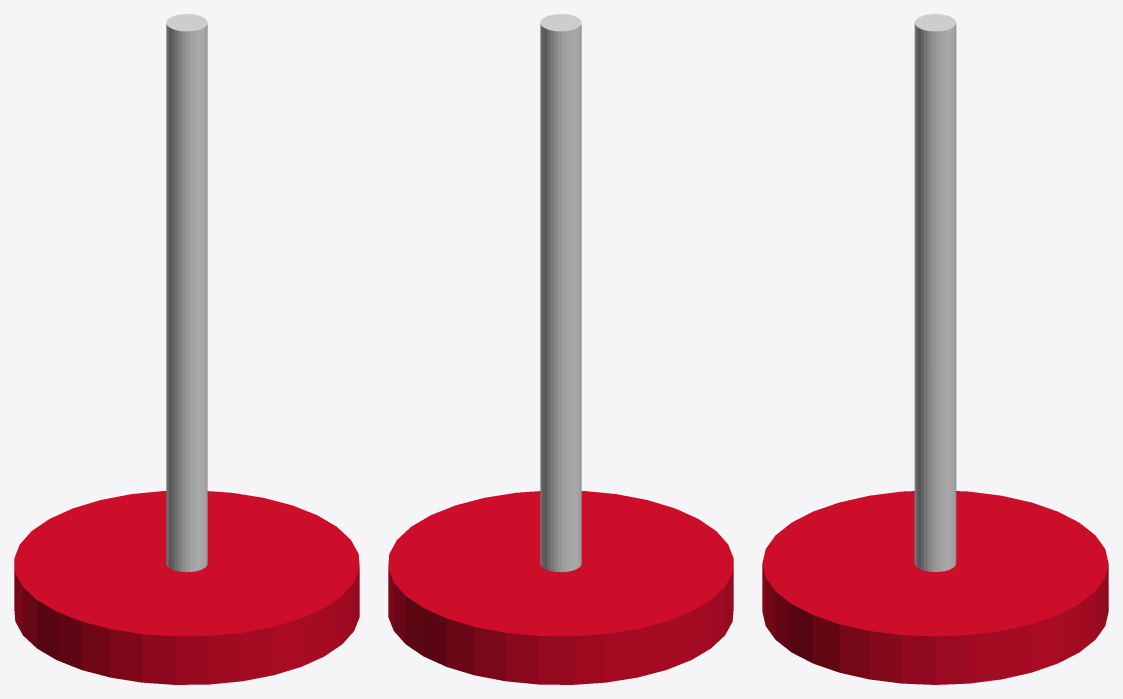
File: Towers of Hanoi 1 Ring.fbx
3 views of the same model, side by side, from view 1: azimuth 30°, elevation 25°; view 2: azimuth 150°, elevation 25°; view 3: azimuth 270°, elevation 25° (orthographic).
Visible parts, largest first — view 1: Cylinder.001, Cylinder; view 2: Cylinder.001, Cylinder; view 3: Cylinder.001, Cylinder.
Part boxes in pixels (x1=…): Cylinder.001: x1=14, y1=491, x2=359, y2=684; Cylinder: x1=166, y1=14, x2=207, y2=572; Cylinder.001: x1=388, y1=491, x2=733, y2=684; Cylinder: x1=540, y1=14, x2=581, y2=572; Cylinder.001: x1=762, y1=491, x2=1108, y2=684; Cylinder: x1=914, y1=14, x2=956, y2=571.
Size of the model in its own units: 270 by 506 by 270.
